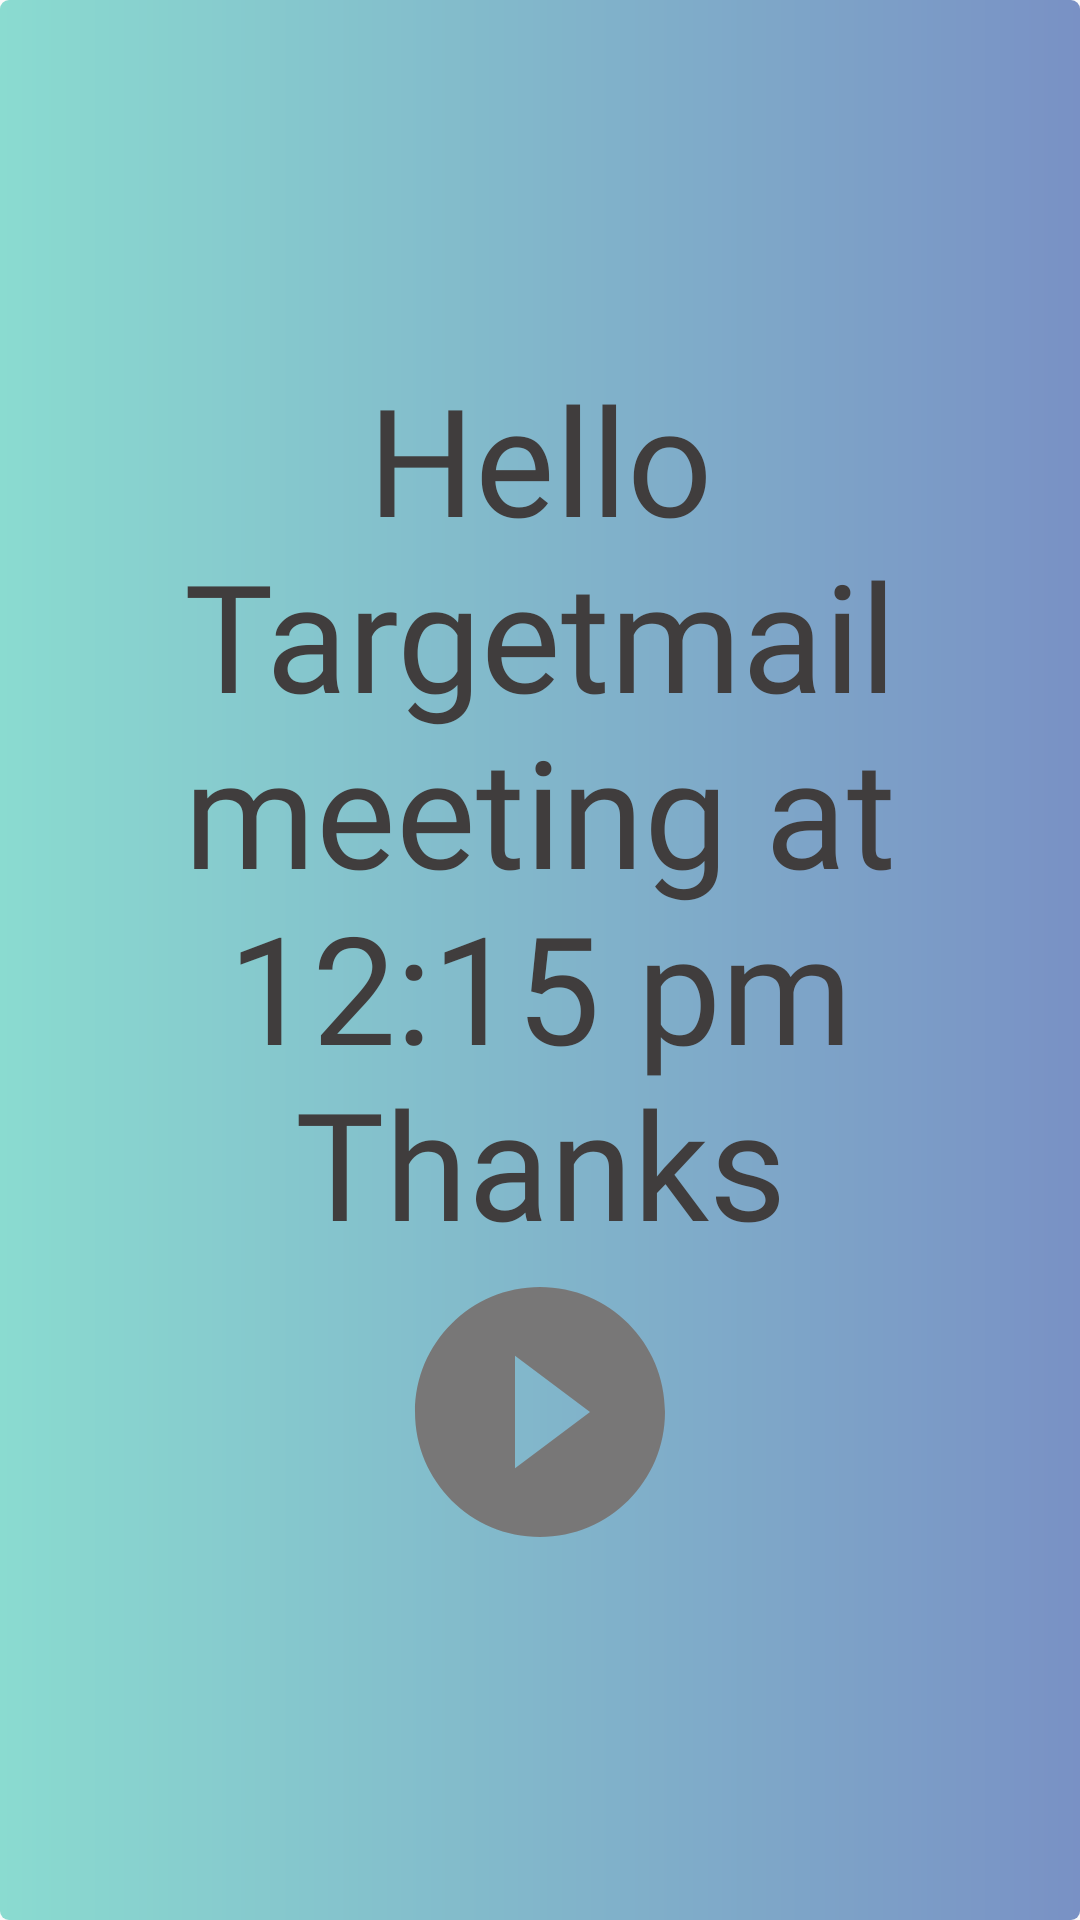

Locate icon controls on the screen. Image size 1080 × 1920, boxes as (x1, y1, x2, y2).
play circle: (415, 1287, 665, 1537)
